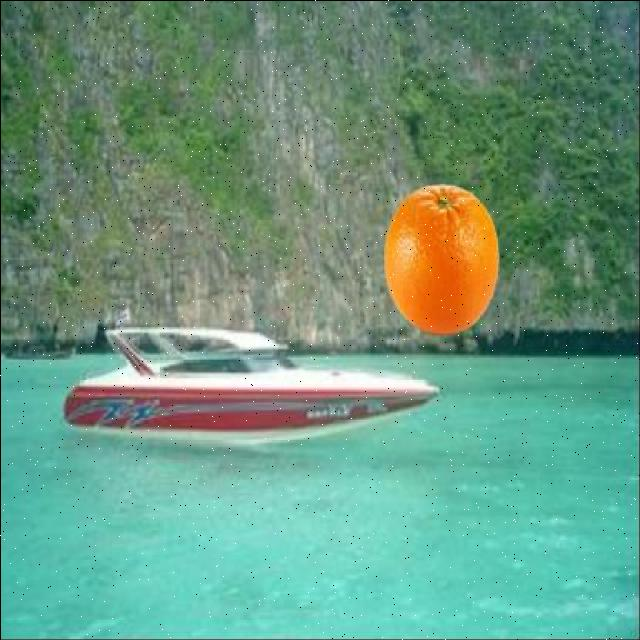Orange: (384, 183, 502, 337)
